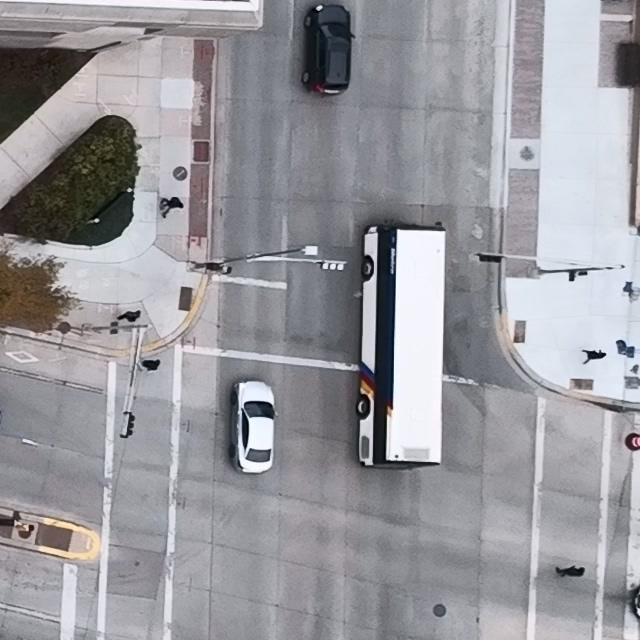car: (355, 222, 446, 469), (301, 4, 356, 96), (229, 380, 279, 475)
